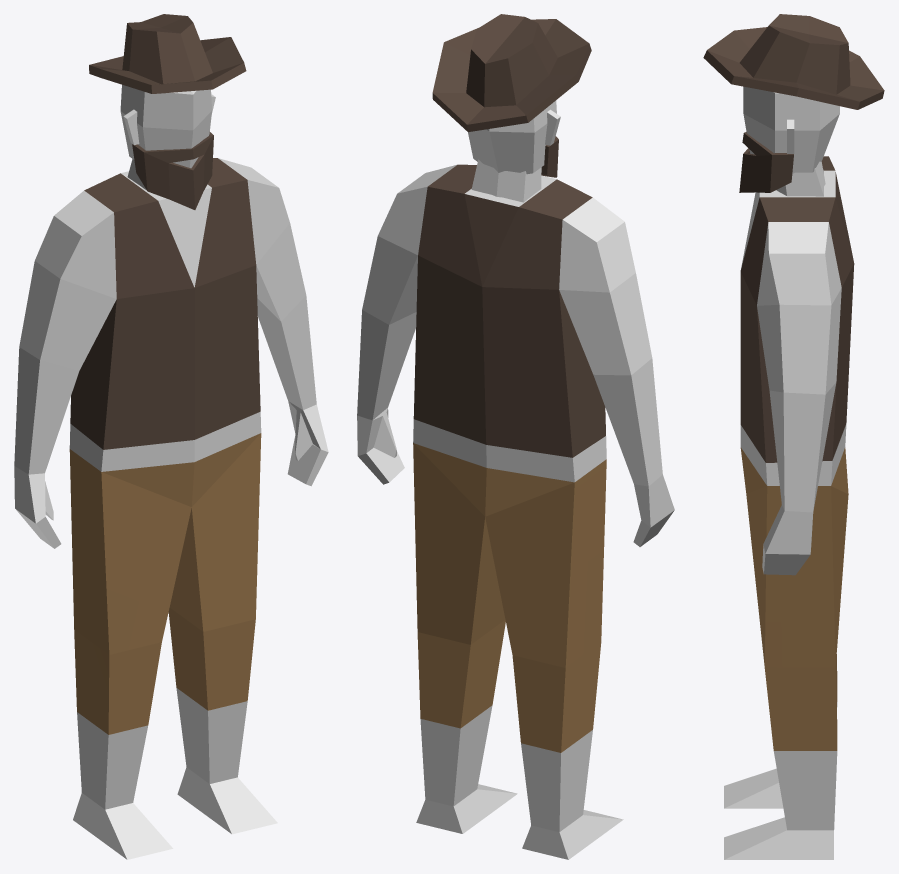
The model's file is cowboy.fbx.
3 views of the same model, side by side, from view 1: azimuth 30°, elevation 25°; view 2: azimuth 150°, elevation 25°; view 3: azimuth 270°, elevation 25° (orthographic).
Visible parts, largest first — view 1: cowboy; view 2: cowboy; view 3: cowboy.
Boxes of the visible parts, box(x1,y1,x2,y2) form: cowboy: box(14, 14, 328, 859); cowboy: box(357, 14, 674, 859); cowboy: box(703, 14, 884, 859).
Bounding box in the file's own units: 0.7247 × 1.88 × 0.3856.
